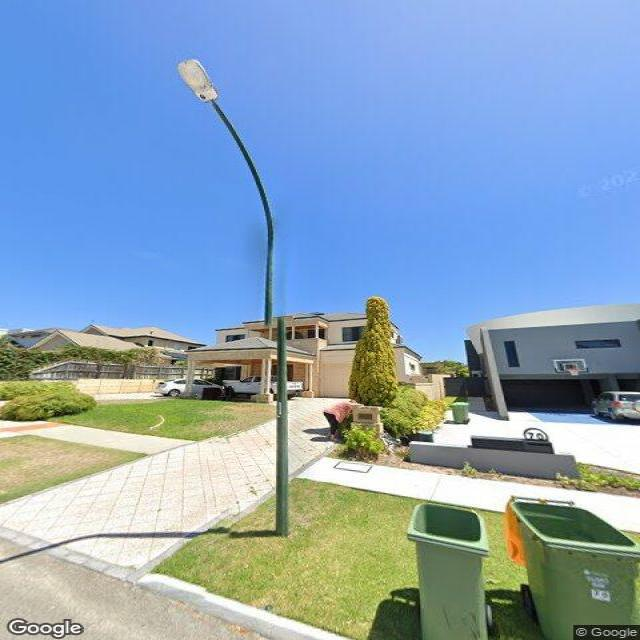steel-pole: (263, 230, 290, 537)
streetlight: (175, 56, 276, 236)
